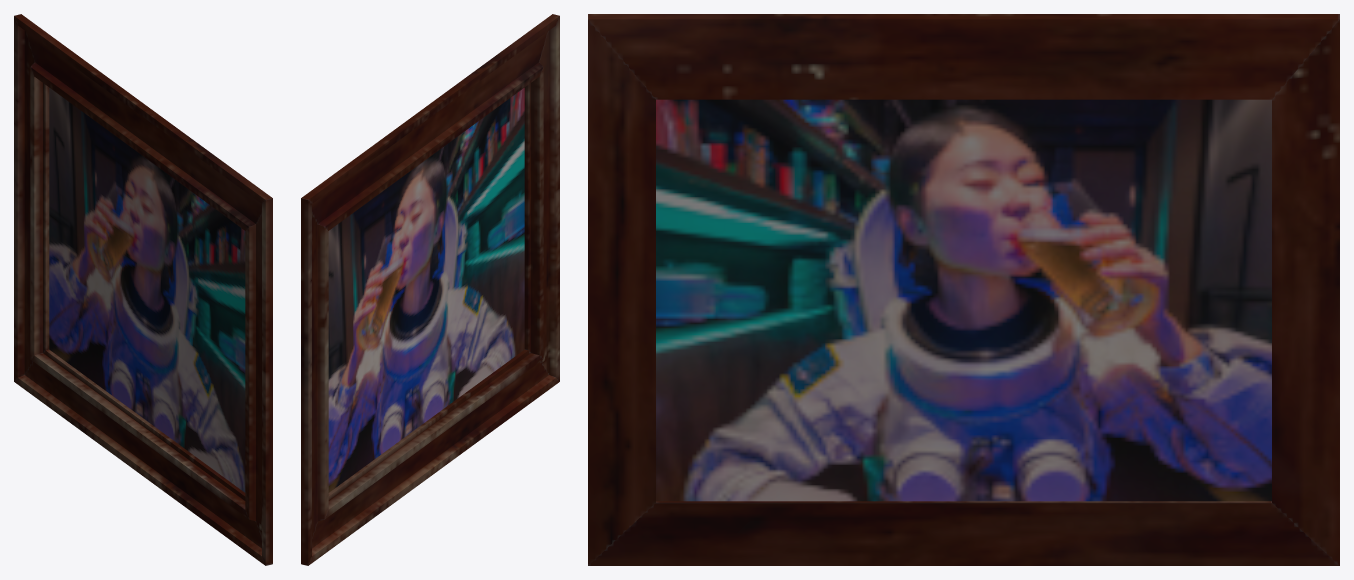
Rendered from Prop_PictureTable_3.fbx.
3 renders of one model, left to right at view 1: azimuth 30°, elevation 25°; view 2: azimuth 150°, elevation 25°; view 3: azimuth 270°, elevation 25°, orthographic. The views are drawn at different scales.
Parts seen in each view (by area): view 1: Prop_PictureTable_3; view 2: Prop_PictureTable_3; view 3: Prop_PictureTable_3.
Part boxes in pixels (x1,y1,x2,y2): Prop_PictureTable_3: [14, 14, 272, 565]; Prop_PictureTable_3: [301, 14, 559, 565]; Prop_PictureTable_3: [588, 14, 1339, 565].
Size of the model in its own units: 1.45 by 35.15 by 43.81.
